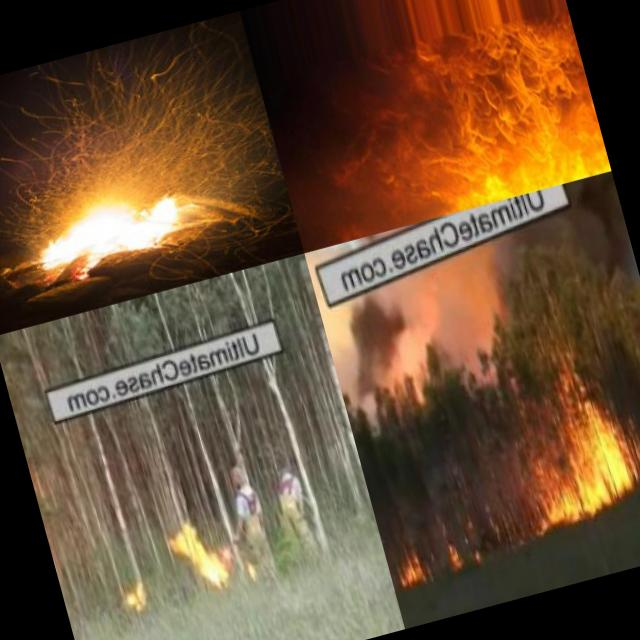fire: (329, 13, 611, 234), (500, 365, 640, 538), (17, 176, 205, 286), (382, 509, 498, 598), (166, 516, 234, 596), (118, 571, 152, 613)
smoke: (322, 271, 502, 424), (282, 150, 369, 252)
